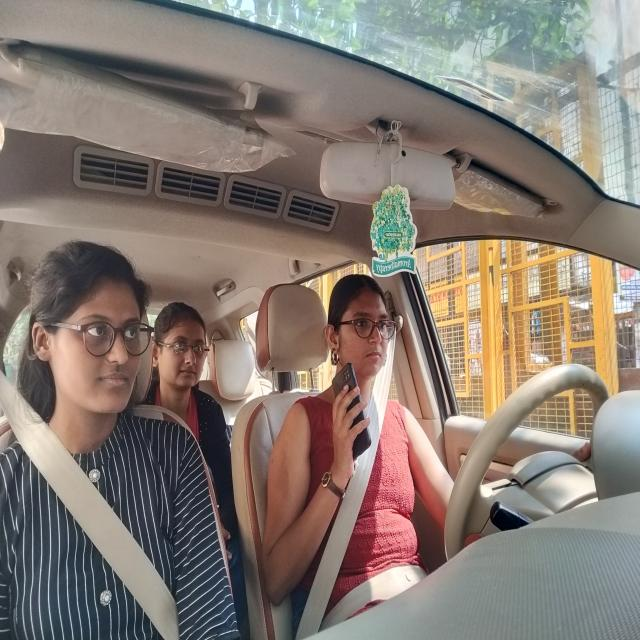mobile: (329, 362, 374, 460)
person: (29, 239, 154, 426), (322, 268, 400, 383), (152, 296, 212, 396)
